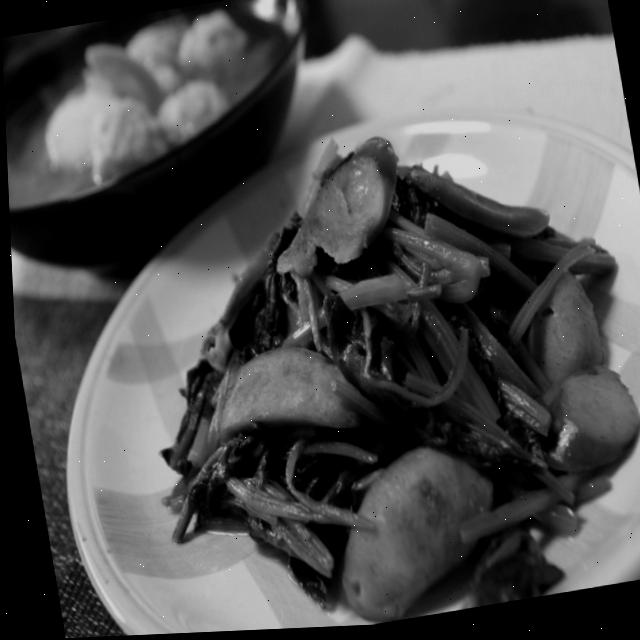蔬菜料理: (81, 74, 640, 637)
